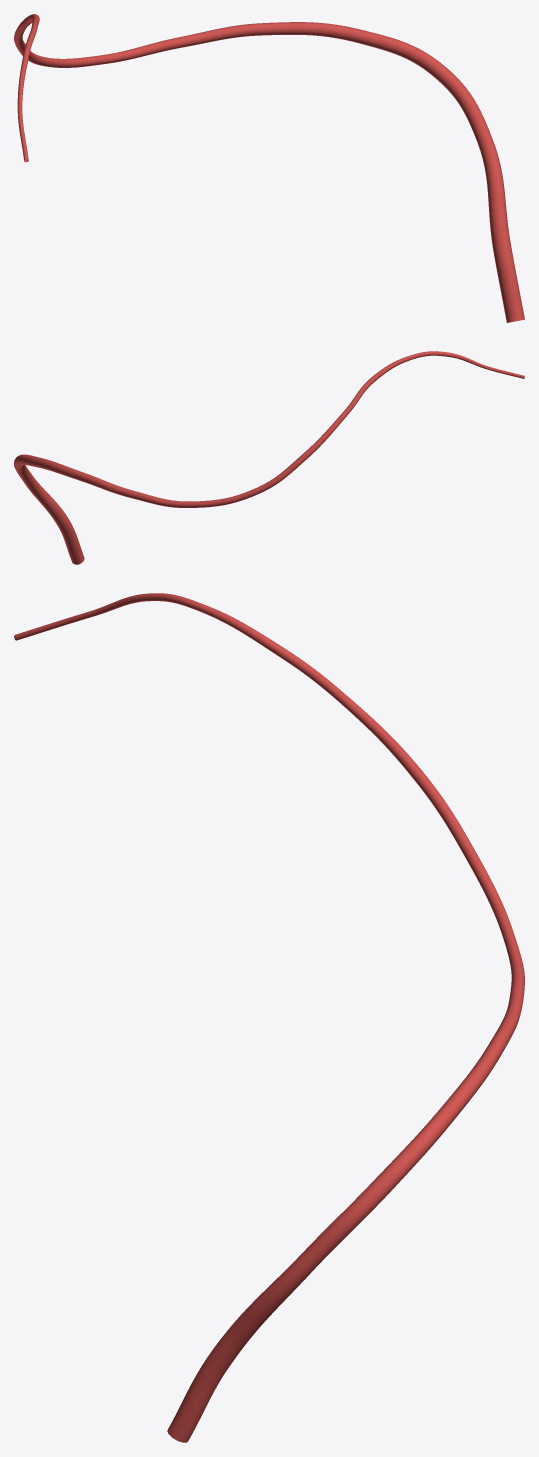
3 views of the same model, one above another, from view 1: azimuth 30°, elevation 25°; view 2: azimuth 150°, elevation 25°; view 3: azimuth 270°, elevation 25° (orthographic). The views are drawn at different scales.
Parts seen in each view (by area): view 1: 右侧枕外侧动脉; view 2: 右侧枕外侧动脉; view 3: 右侧枕外侧动脉.
Part boxes in pixels (x1,y1,x2,y2): 右侧枕外侧动脉: (14, 14, 524, 322); 右侧枕外侧动脉: (14, 351, 524, 564); 右侧枕外侧动脉: (14, 593, 524, 1442).
Bounding box in the file's own units: 0.0639 × 0.0432 × 0.0374.
